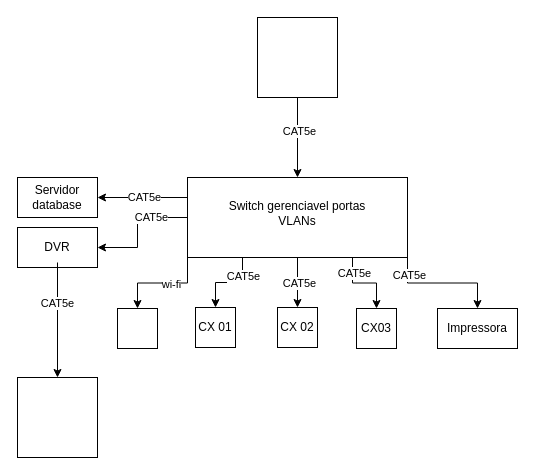
Image size: 535x475. Some labels were removed from this diagram. The box of each missing label's shape, as (x1, y1, x2, y2) in pixels:
Câmeras Segurança: (16, 376, 98, 458)
Gateway roteador acesso a rede: (256, 16, 338, 98)
maq cartão: (116, 308, 158, 348)
